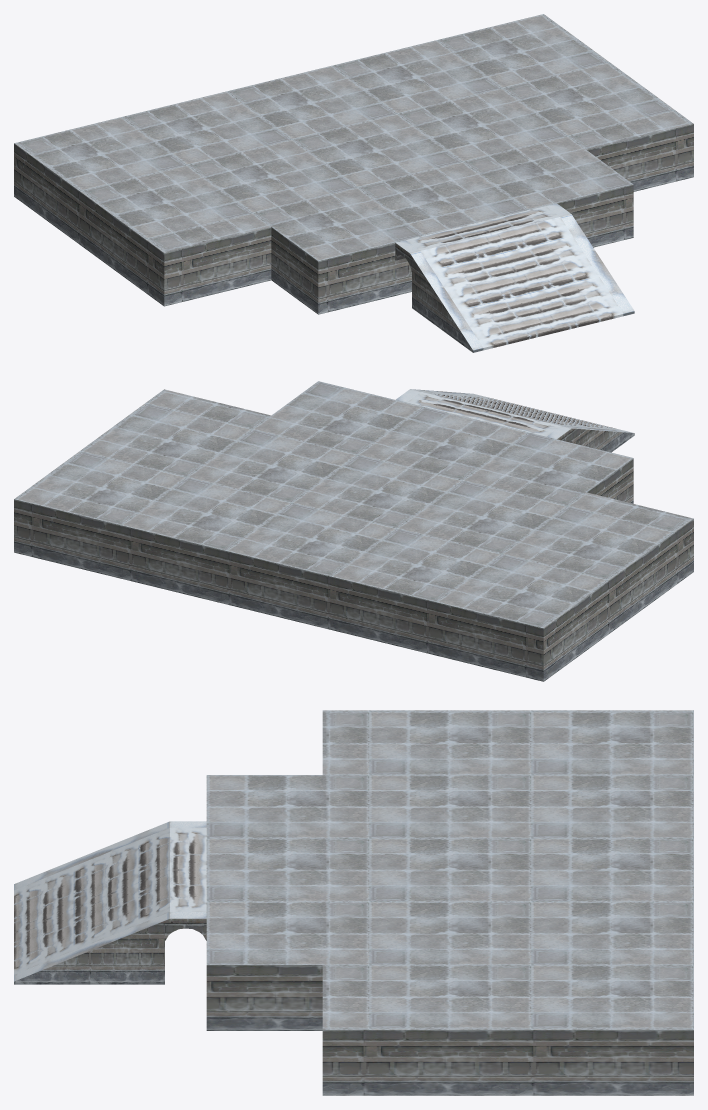
Rendered from jz_tianjifeng_02.FBX.
The picture shows the model from 3 angles, top to bottom: view 1: azimuth 30°, elevation 25°; view 2: azimuth 150°, elevation 25°; view 3: azimuth 270°, elevation 25°; orthographic projection. The views are drawn at different scales.
Visible parts, largest first — view 1: jz_tianjifeng_02; view 2: jz_tianjifeng_02; view 3: jz_tianjifeng_02.
Part boxes in pixels (bbox=[...]): jz_tianjifeng_02: bbox=[14, 14, 693, 352]; jz_tianjifeng_02: bbox=[14, 381, 693, 681]; jz_tianjifeng_02: bbox=[14, 710, 693, 1095].
Bounding box in the file's own units: 4261 × 410 × 3831.
